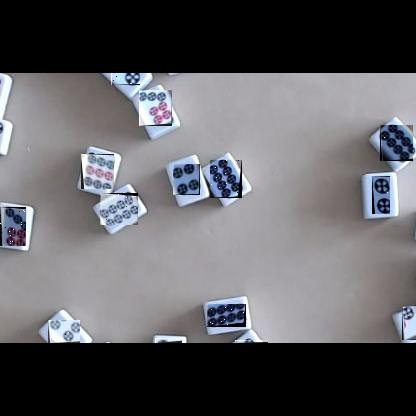2p: (372, 176, 390, 214), (111, 73, 140, 85)
3p: (402, 306, 416, 340), (155, 338, 182, 343)
4p: (173, 164, 200, 195), (48, 320, 80, 343)
6p: (235, 340, 268, 343)
7p: (139, 90, 172, 126), (0, 207, 26, 246)
8p: (210, 160, 242, 198), (100, 193, 138, 225), (380, 125, 413, 161), (207, 304, 246, 327)
9p: (81, 154, 114, 189)
